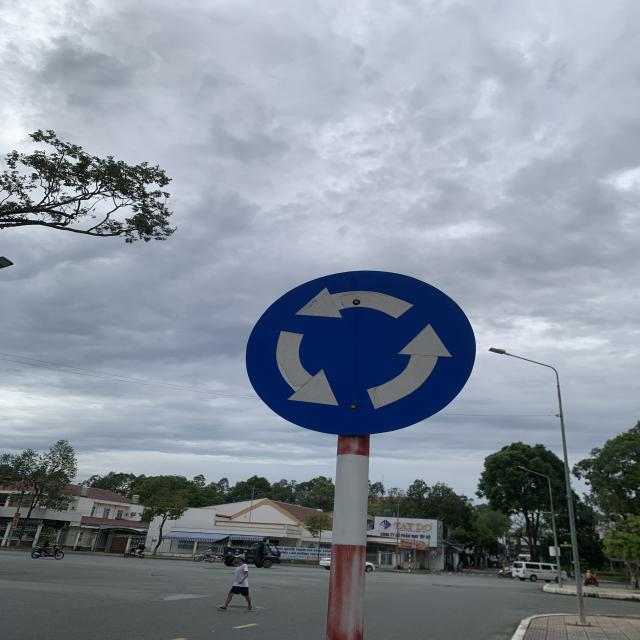Xe_Bus: (246, 267, 478, 440)
